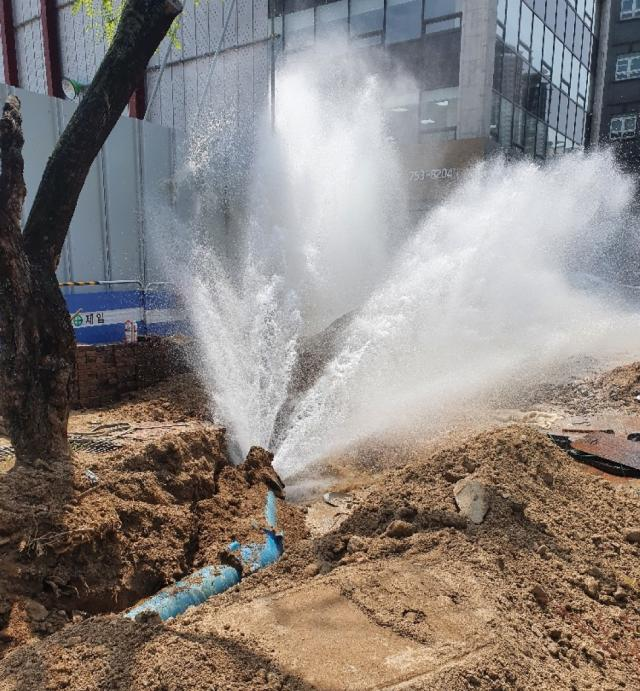pipe burst: (158, 56, 640, 482)
